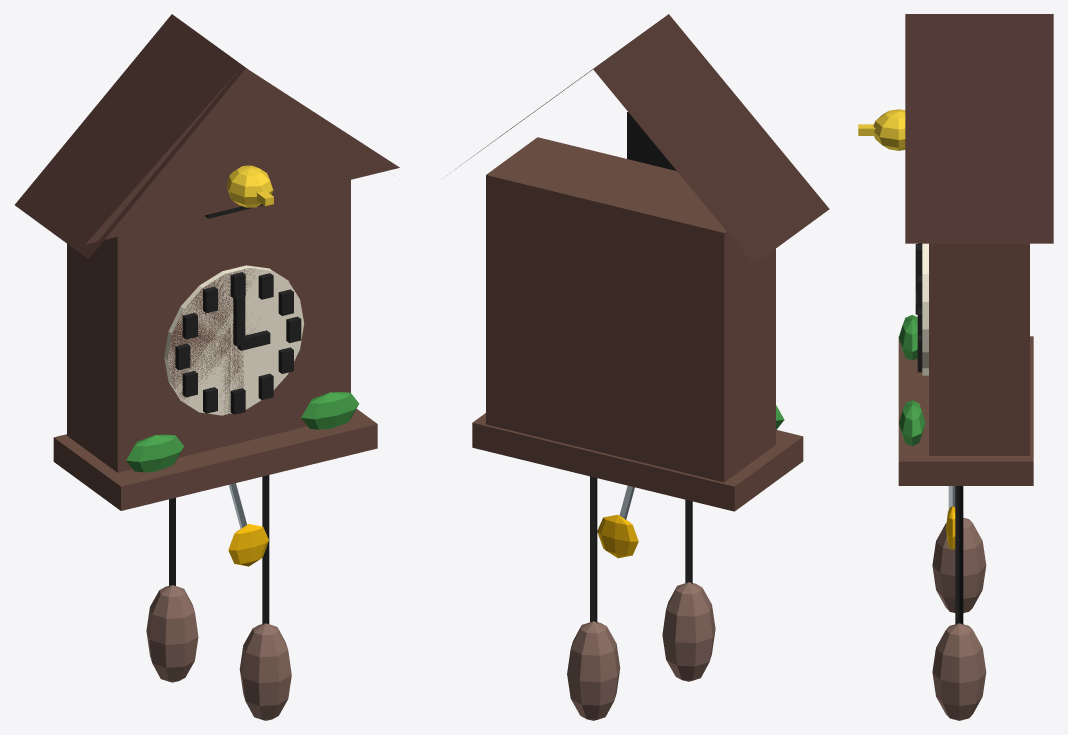
The model's file is gokur.glb.
The picture shows the model from 3 angles, left to right: view 1: azimuth 30°, elevation 25°; view 2: azimuth 150°, elevation 25°; view 3: azimuth 270°, elevation 25°; orthographic projection. The views are drawn at different scales.
Visible parts, largest first — view 1: gokur; view 2: gokur; view 3: gokur.
Part boxes in pixels (x1,y1,x2,y2): gokur: (15,14,399,720); gokur: (450,14,829,720); gokur: (858,14,1053,720).
Bounding box in the file's own units: 0.54 × 1.12 × 0.29.
